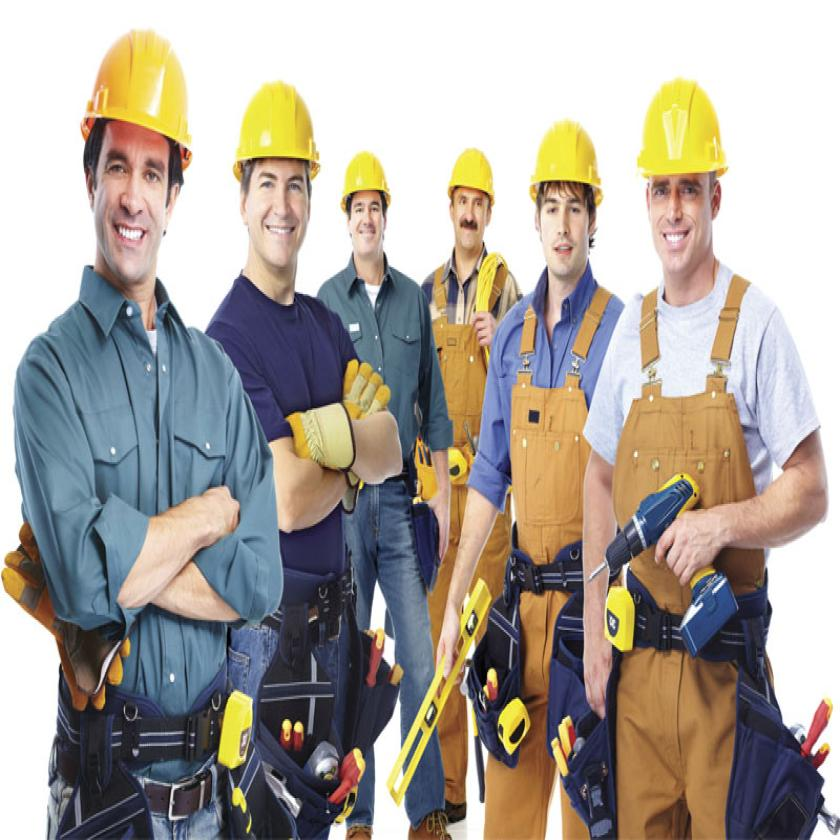Con_casco: (80, 28, 196, 304), (624, 54, 744, 292), (228, 67, 325, 298), (530, 116, 607, 292), (336, 149, 399, 287), (441, 125, 501, 268)
